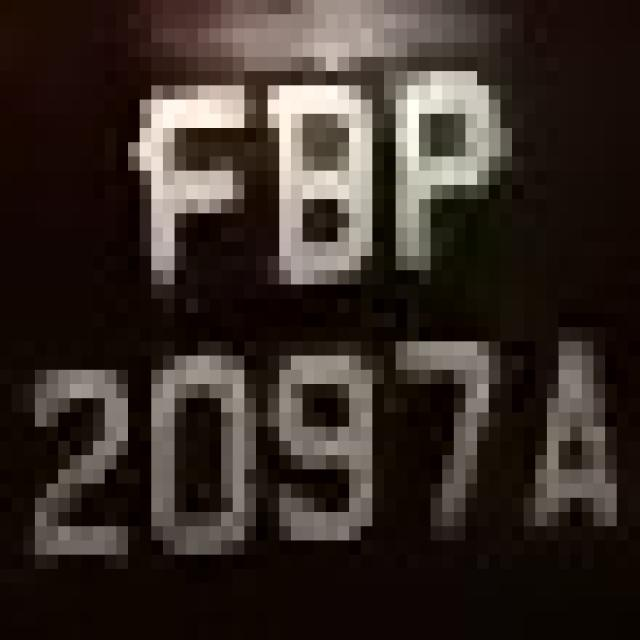0: (151, 341, 268, 583)
2: (0, 327, 140, 597)
7: (384, 284, 500, 569)
9: (244, 327, 396, 569)
A: (500, 284, 640, 569)
B: (244, 28, 384, 284)
F: (105, 71, 268, 313)
P: (361, 28, 500, 313)
